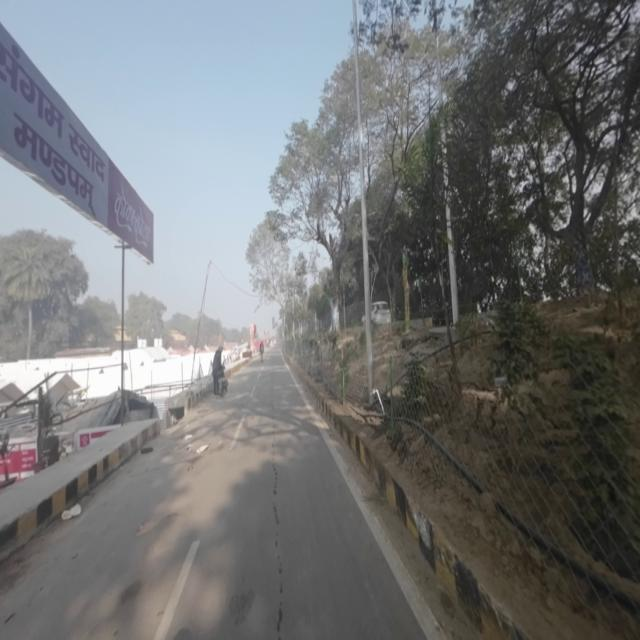Garbage: (60, 501, 84, 525), (194, 438, 210, 461)
